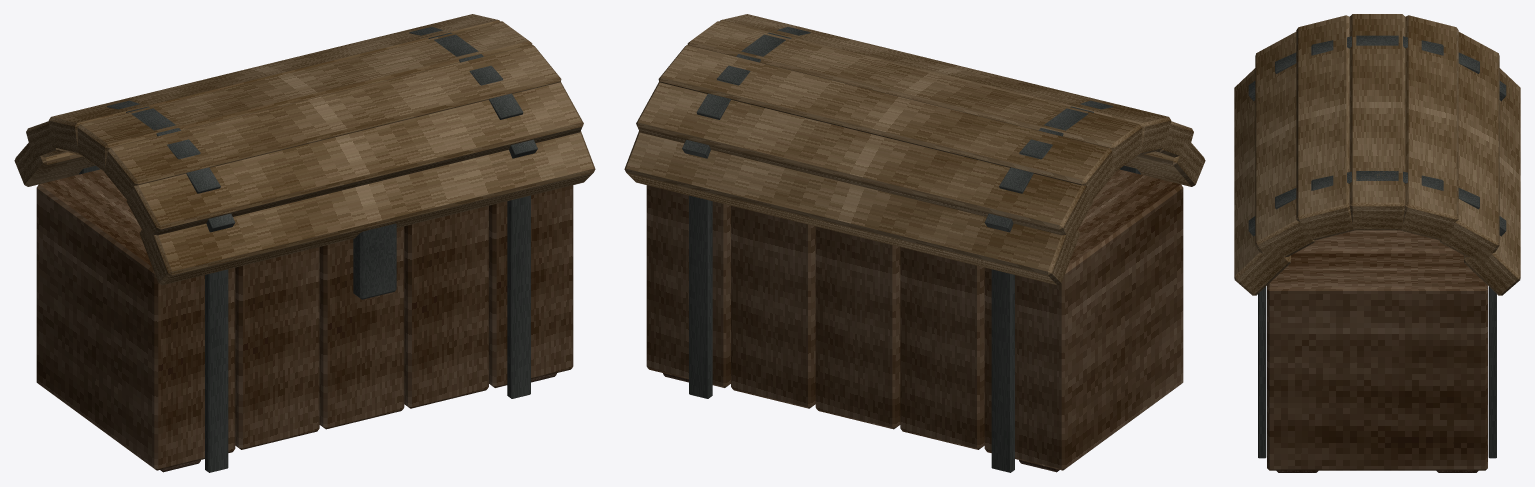
File: bau.glb
3 views of the same model, side by side, from view 1: azimuth 30°, elevation 25°; view 2: azimuth 150°, elevation 25°; view 3: azimuth 270°, elevation 25° (orthographic). The views are drawn at different scales.
Visible parts, largest first — view 1: bau_mesh; view 2: bau_mesh; view 3: bau_mesh.
Part boxes in pixels (<box>): bau_mesh: <box>14,14,595,472</box>; bau_mesh: <box>624,14,1205,472</box>; bau_mesh: <box>1234,14,1520,472</box>.
Size of the model in its own units: 0.96 by 0.6525 by 0.6077.
4 materials, 4 textured.
